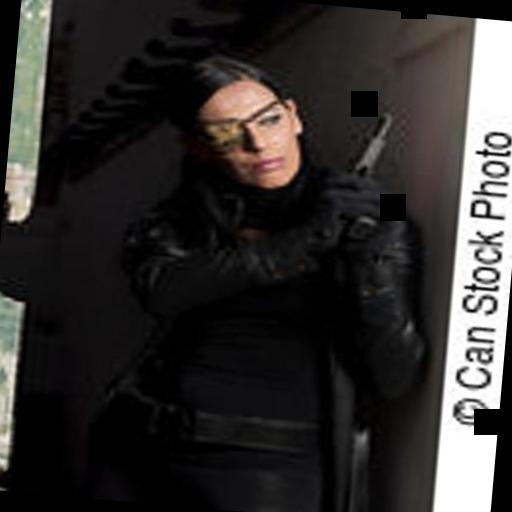Handgun: (328, 103, 410, 249)
